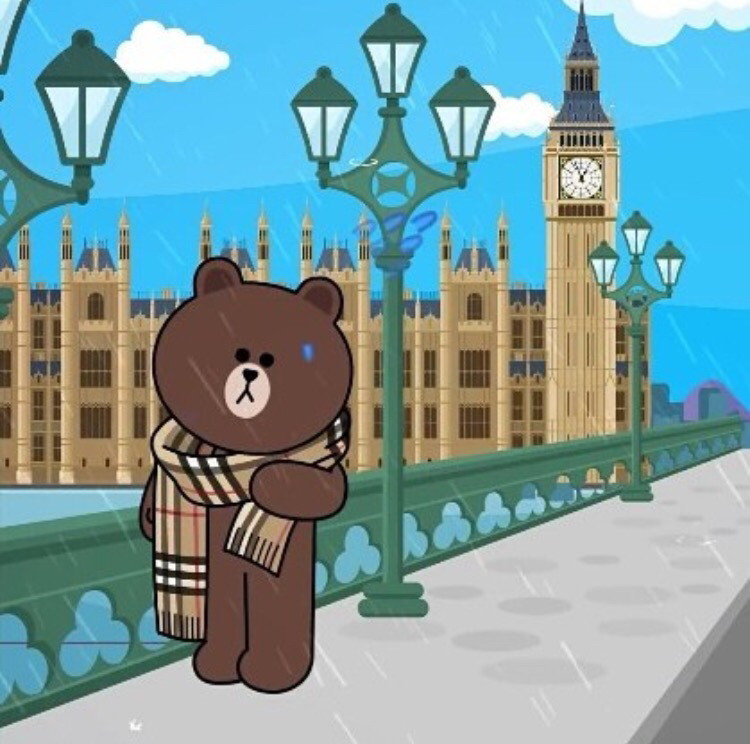line_brown: (148, 256, 364, 459)
